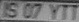0: (23, 3, 33, 18)
7: (32, 2, 43, 20)
I: (1, 1, 9, 20)
S: (8, 2, 18, 19)
T: (58, 2, 69, 21), (69, 4, 78, 22)
Y: (48, 3, 60, 21)
